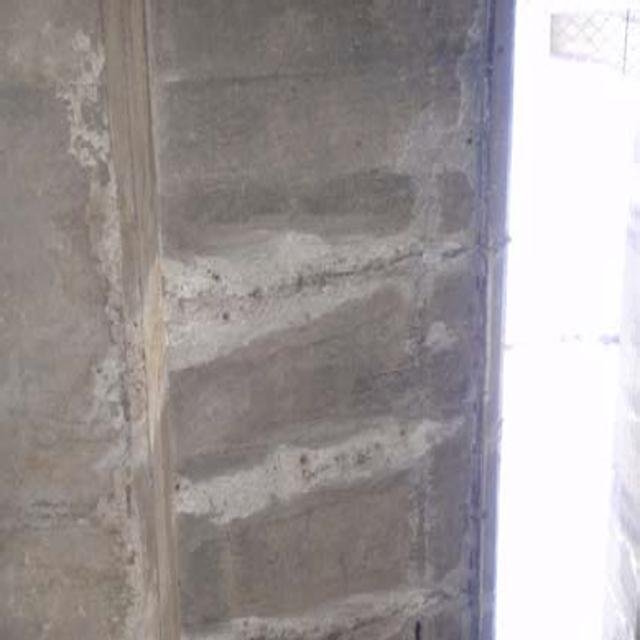freelime: (137, 184, 487, 380), (160, 414, 473, 523)
